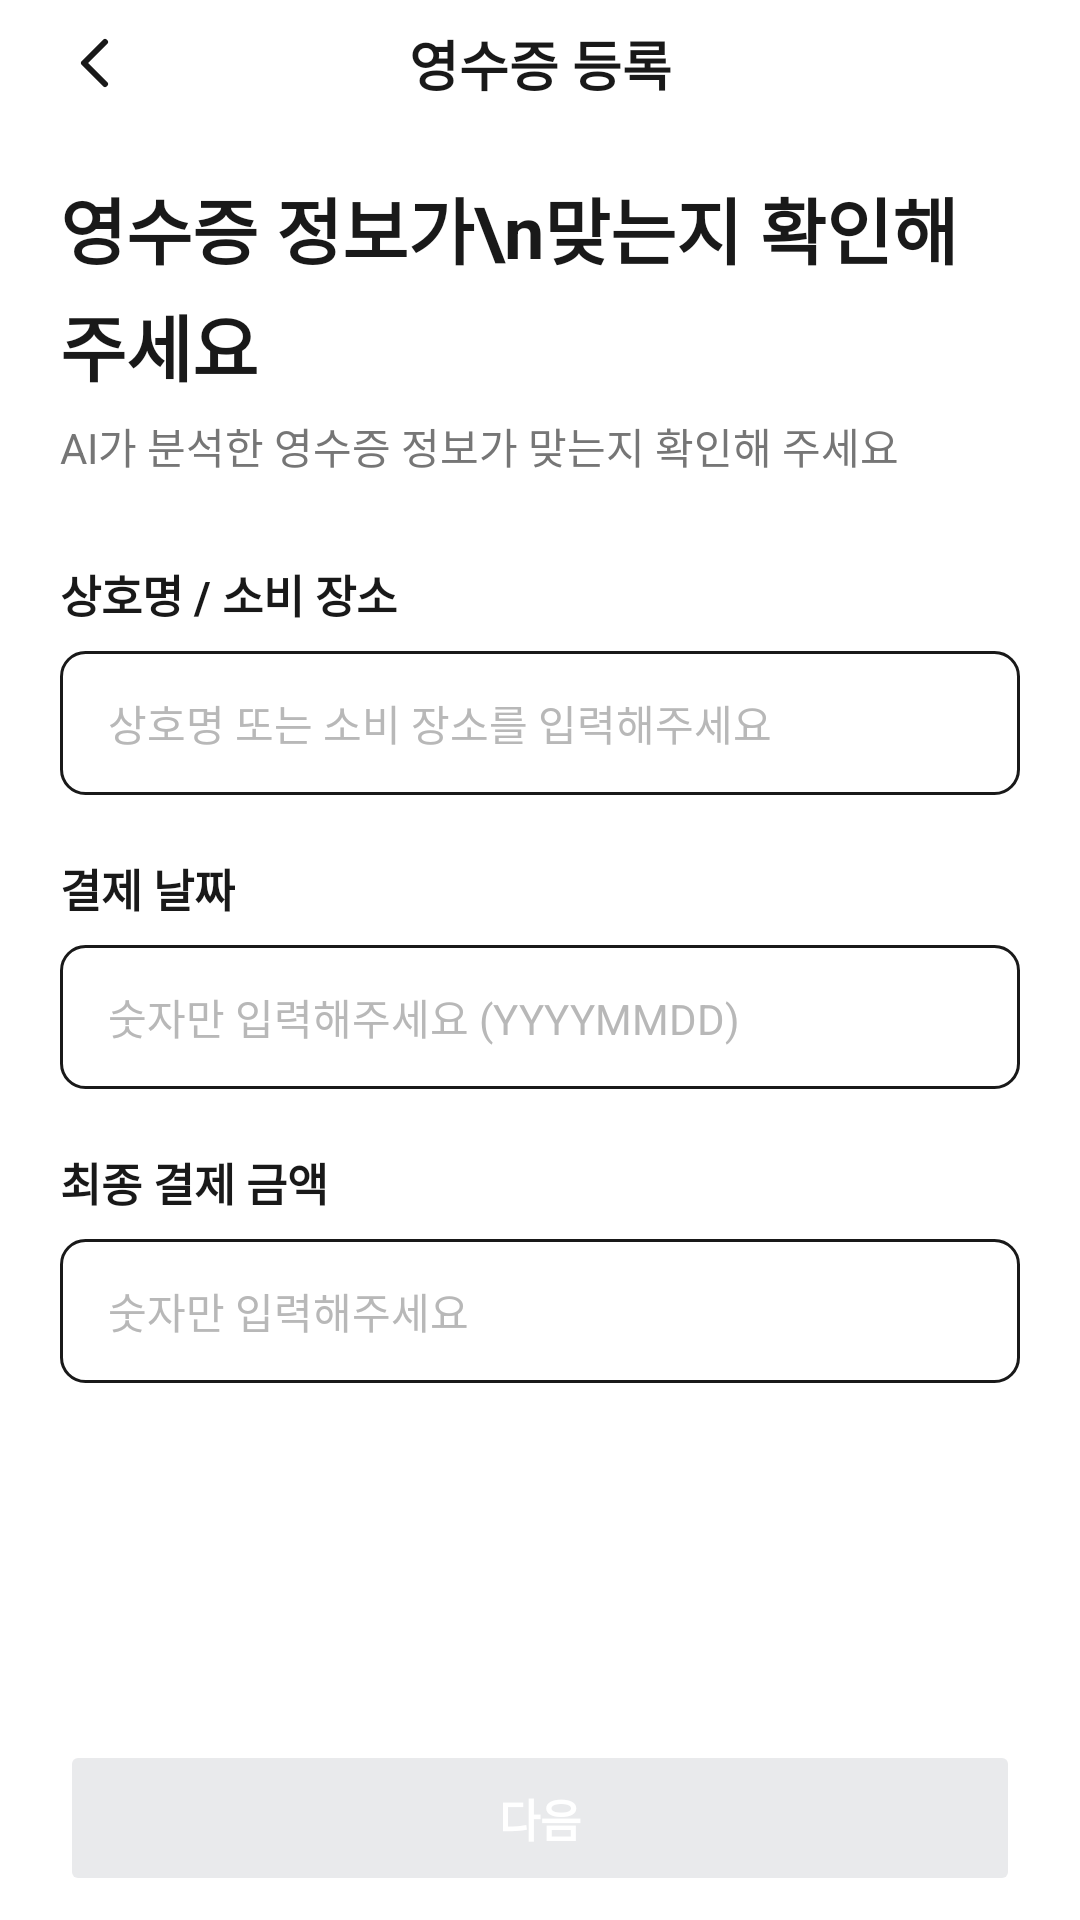

Screen size 1080×1920. Icon name, then its center in pixels as (x,y):
뒤로가기: (94,63)
